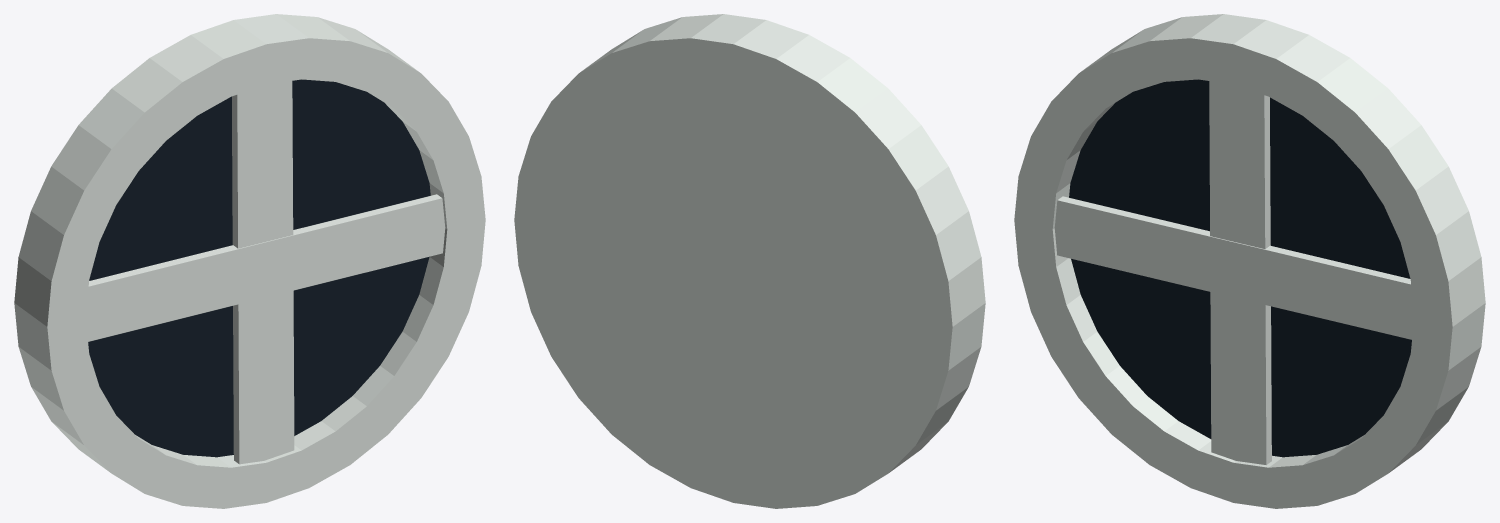
File: small_window.fbx
The picture shows the model from 3 angles, left to right: view 1: azimuth 30°, elevation 25°; view 2: azimuth 150°, elevation 25°; view 3: azimuth 330°, elevation 25°; orthographic projection.
Parts seen in each view (by area): view 1: Cube.002; view 2: Cube.002; view 3: Cube.002.
Part boxes in pixels (x1,y1,x2,y2): Cube.002: (14, 14, 485, 508); Cube.002: (514, 14, 985, 508); Cube.002: (1014, 14, 1485, 508).
Bounding box in the file's own units: 1240 × 1240 × 162.
